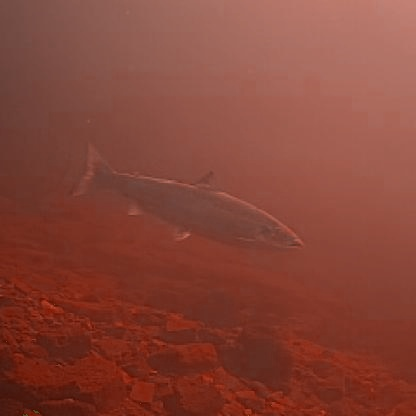salmon: (68, 135, 306, 255)
